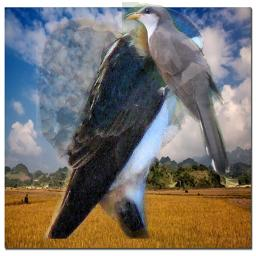Cuckoo: (122, 2, 234, 178)
Swallow: (36, 7, 204, 239)
